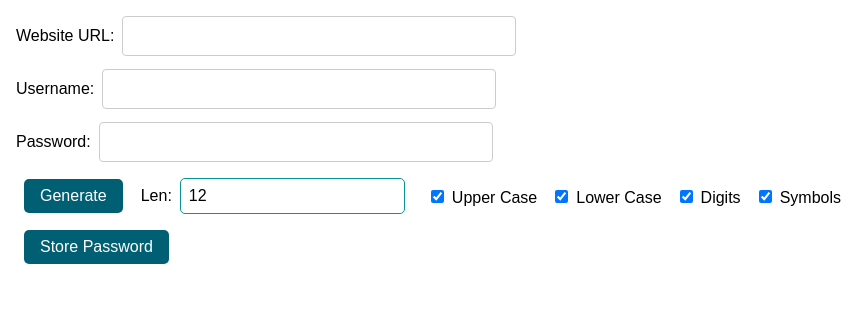
Test case: StorePasswordForm › when input fields are empty
This screenshot has width=858, height=317.
Click the button "Store Password" at (96, 247), box top-left (24, 230), bottom-right (169, 264)
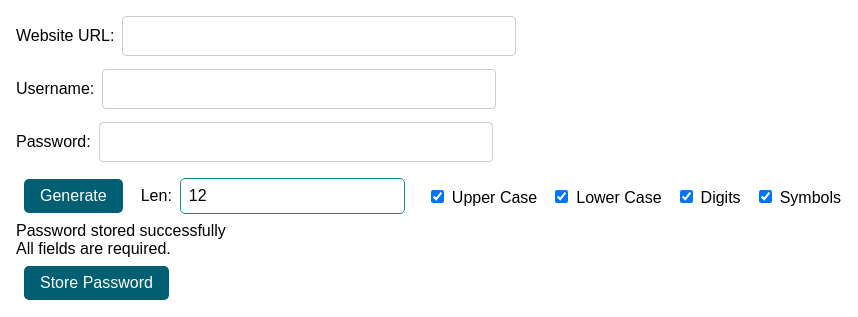
Result: the text "All fields are required." is shown at top-left (16, 240), bottom-right (171, 257)
